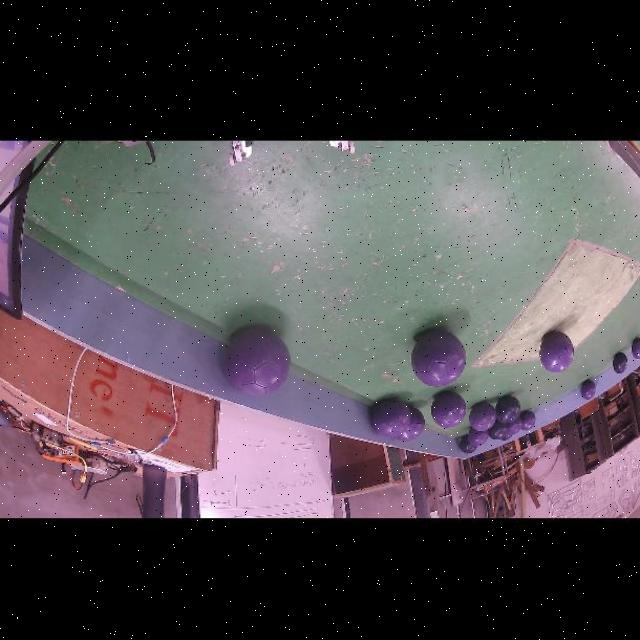B: (495, 395, 520, 424), (488, 420, 507, 439), (460, 435, 477, 454), (613, 353, 627, 374)
P: (225, 328, 290, 395), (411, 329, 466, 387), (372, 399, 425, 441), (540, 331, 574, 373), (432, 392, 466, 428), (469, 401, 496, 432), (467, 428, 488, 446), (580, 379, 596, 400), (631, 337, 640, 359)
